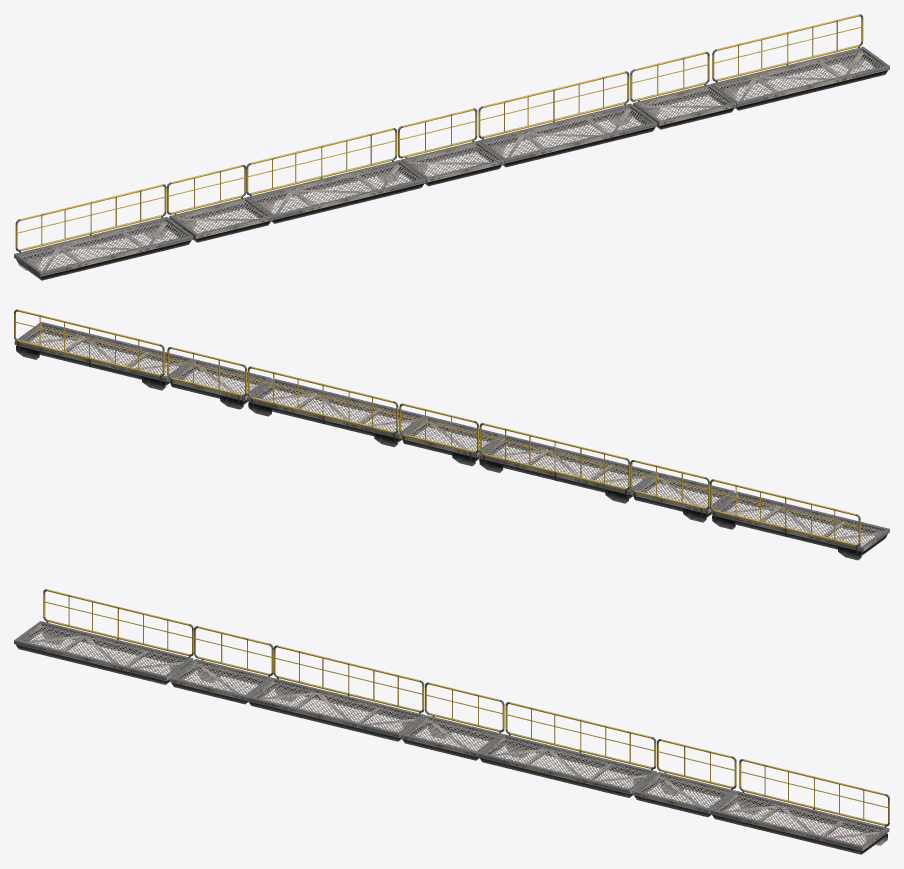
File: FLO_Walkway_Grills_27m.FBX
3 renders of one model, top to bottom at view 1: azimuth 30°, elevation 25°; view 2: azimuth 150°, elevation 25°; view 3: azimuth 330°, elevation 25°, orthographic.
Parts seen in each view (by area): view 1: FLO_Walkway_Grills_27m_Floor, FLO_Walkway_Grills_27m_Banister; view 2: FLO_Walkway_Grills_27m_Floor, FLO_Walkway_Grills_27m_Banister; view 3: FLO_Walkway_Grills_27m_Floor, FLO_Walkway_Grills_27m_Banister.
Part boxes in pixels (x1,y1,x2,y2): FLO_Walkway_Grills_27m_Floor: [14, 46, 889, 280]; FLO_Walkway_Grills_27m_Banister: [15, 14, 863, 252]; FLO_Walkway_Grills_27m_Floor: [14, 321, 889, 560]; FLO_Walkway_Grills_27m_Banister: [14, 309, 860, 554]; FLO_Walkway_Grills_27m_Floor: [14, 621, 889, 854]; FLO_Walkway_Grills_27m_Banister: [43, 589, 889, 827].
Size of the model in its own units: 2689 by 150 by 151.
